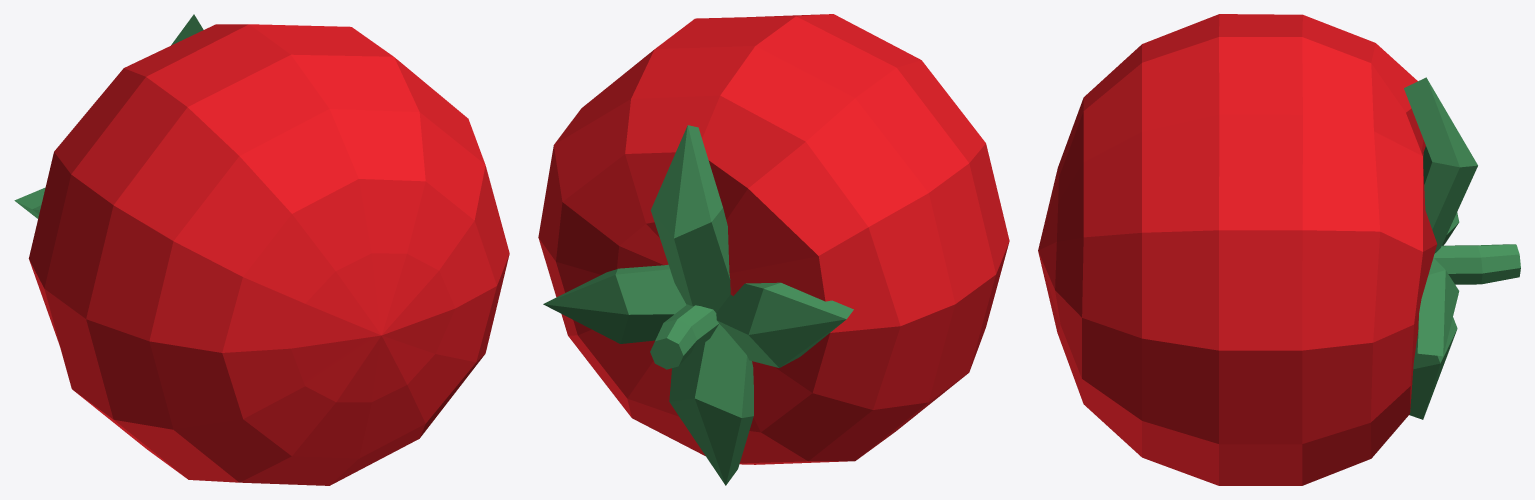
The model's file is tomato.fbx.
3 renders of one model, left to right at view 1: azimuth 30°, elevation 25°; view 2: azimuth 150°, elevation 25°; view 3: azimuth 270°, elevation 25°, orthographic. The views are drawn at different scales.
Visible parts, largest first — view 1: Sphere.016; view 2: Sphere.016; view 3: Sphere.016.
Boxes of the visible parts, x1,y1,x2,y2 form: Sphere.016: (14, 14, 509, 485); Sphere.016: (538, 14, 1009, 485); Sphere.016: (1038, 14, 1520, 485).
Size of the model in its own units: 985 by 985 by 1008.
